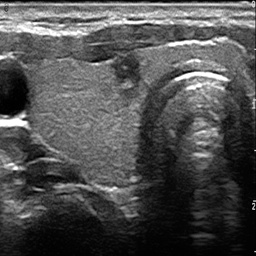mass: (110, 51, 141, 100)
